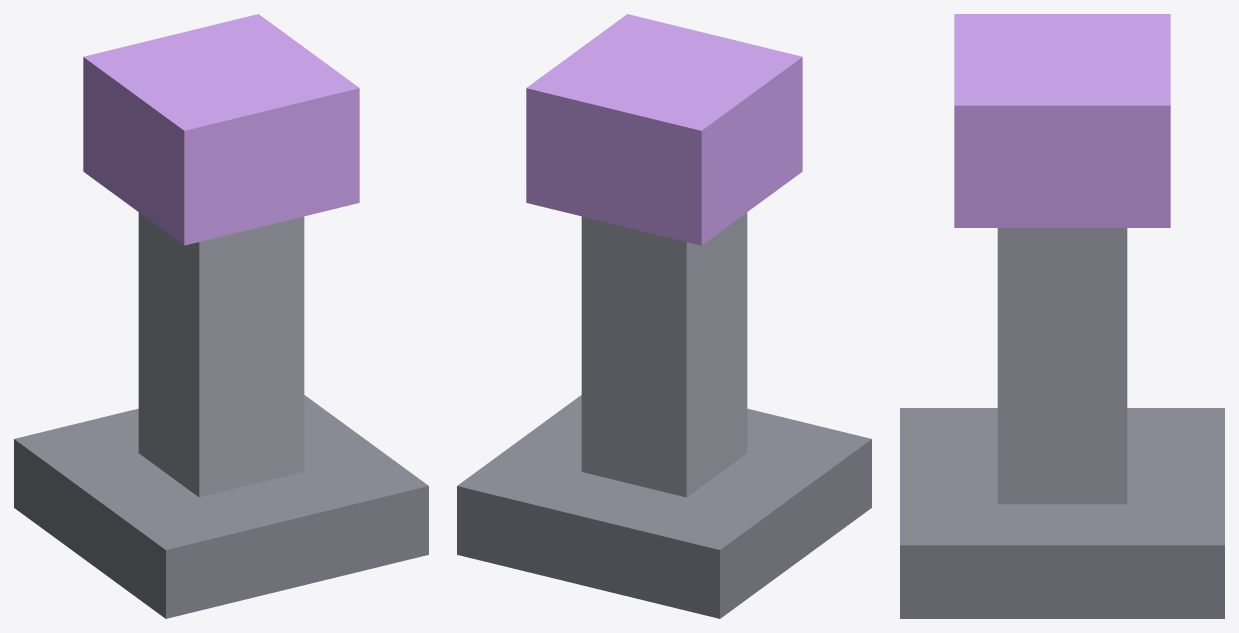
File: mana_pylon.glb
The picture shows the model from 3 angles, left to right: view 1: azimuth 30°, elevation 25°; view 2: azimuth 150°, elevation 25°; view 3: azimuth 270°, elevation 25°; orthographic projection. The views are drawn at different scales.
Size of the model in its own units: 0.6 by 1 by 0.6.
